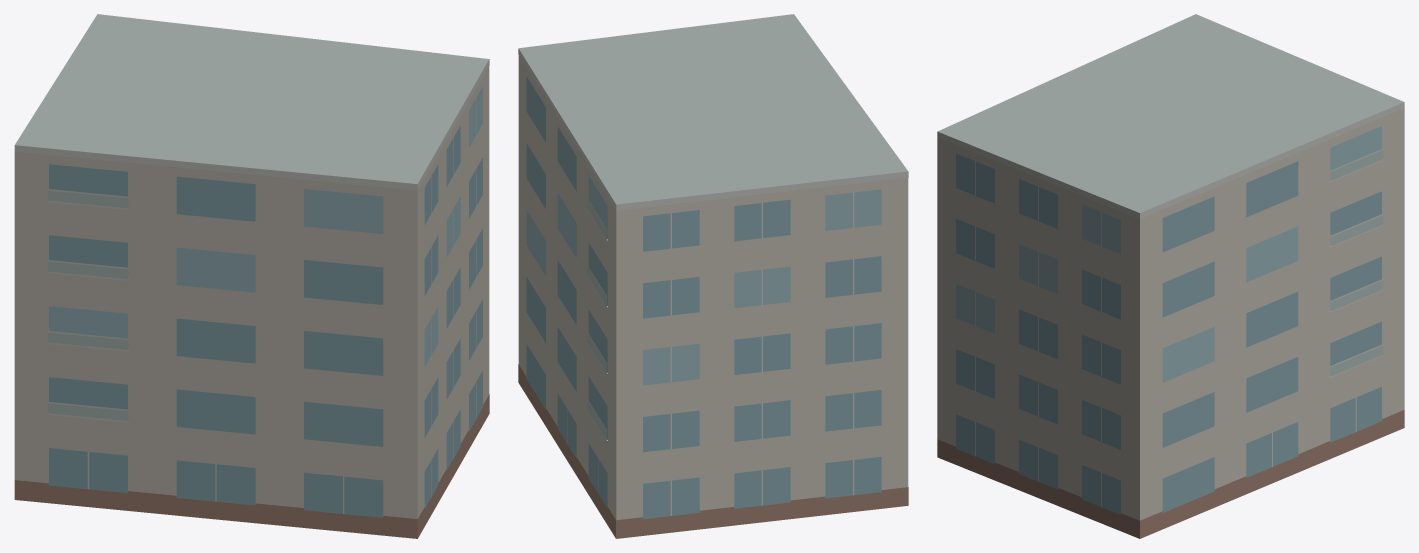
File: survey-upis-32890839.glb
The picture shows the model from 3 angles, left to right: view 1: azimuth 30°, elevation 25°; view 2: azimuth 150°, elevation 25°; view 3: azimuth 270°, elevation 25°; orthographic projection. The views are drawn at different scales.
Parts seen in each view (by area): view 1: survey-upis-32890839.tmp; view 2: survey-upis-32890839.tmp; view 3: survey-upis-32890839.tmp.
Part boxes in pixels (left/top/right/bottom): survey-upis-32890839.tmp: left=14, top=14, right=489, bottom=538; survey-upis-32890839.tmp: left=518, top=14, right=908, bottom=538; survey-upis-32890839.tmp: left=937, top=14, right=1404, bottom=538.
Bounding box in the file's own units: 17.31 × 13.2 × 17.16.
